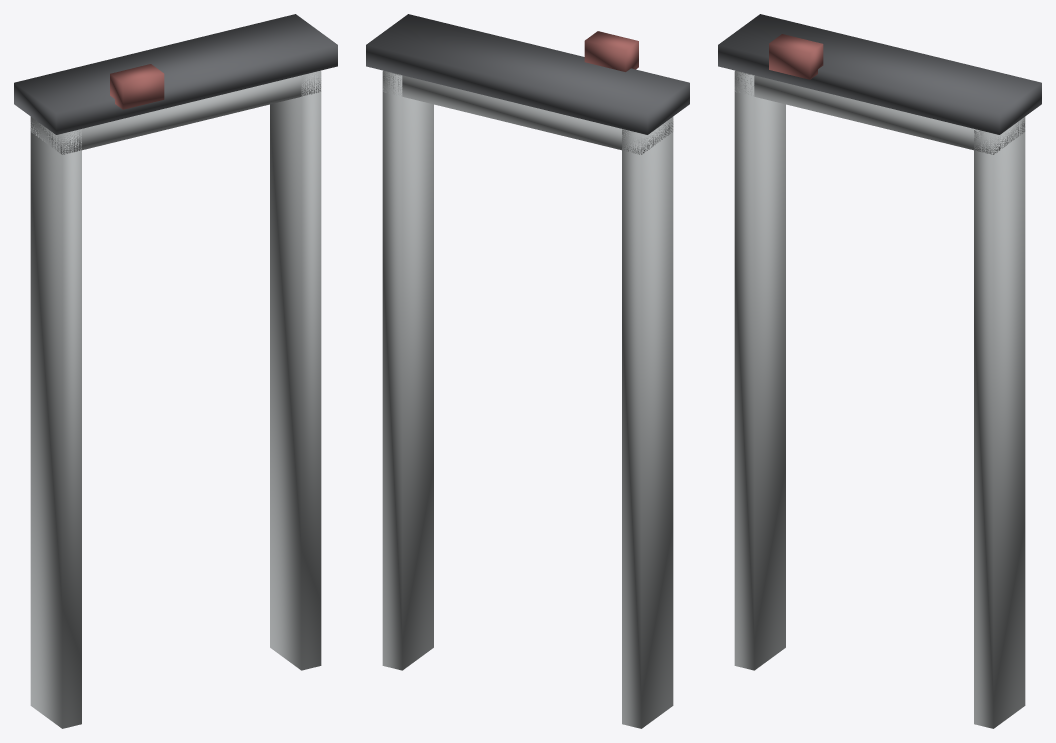
File: doorway_fire_rated_w96_h240_d24.glb
3 views of the same model, side by side, from view 1: azimuth 30°, elevation 25°; view 2: azimuth 150°, elevation 25°; view 3: azimuth 330°, elevation 25° (orthographic).
Parts seen in each view (by area): view 1: world; view 2: world; view 3: world.
Part boxes in pixels (x1=…): world: x1=14, y1=14, x2=337, y2=728; world: x1=366, y1=14, x2=689, y2=728; world: x1=718, y1=14, x2=1041, y2=728.
Size of the model in its own units: 1.23 by 2.69 by 0.38.
